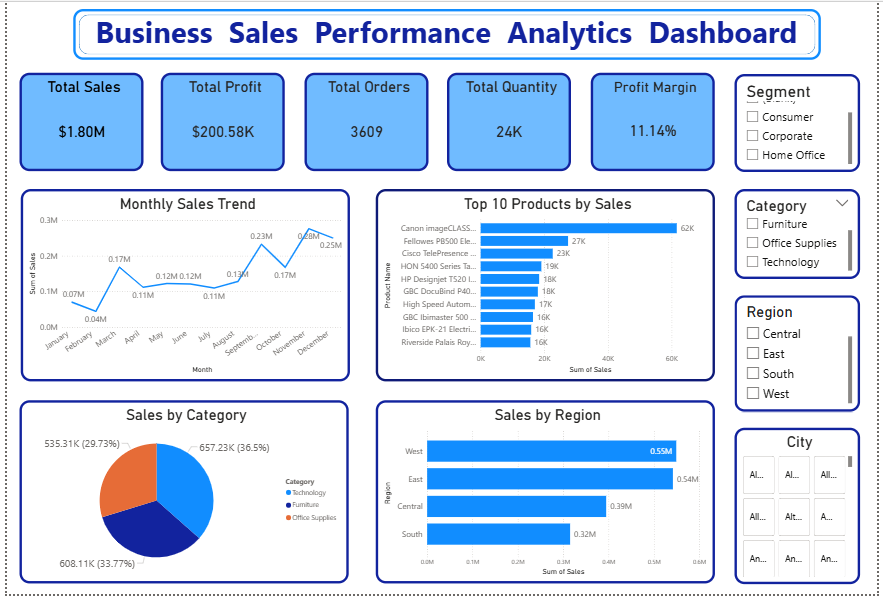

Layout of this report page (visuals, bound fields, positions):
{"tool":"powerbi","page":{"name":"Page 1","canvas":[1740,1240],"ordinal":0},"visuals":[{"type":"card","title":"Total Sales","fields":{"Values":["Sample - Superstore.Total Sales"]},"box":[25,198.3,248.3,196.7],"z":0},{"type":"card","title":"Total Profit","fields":{"Values":["Sample - Superstore.Total Profit"]},"box":[308.3,198.3,248.3,196.7],"z":1000},{"type":"card","title":"Total Orders","fields":{"Values":["Sample - Superstore.Total Orders"]},"box":[595,198.3,248.3,196.7],"z":2000},{"type":"card","title":"Total Quantity","fields":{"Values":["Sample - Superstore.Total Quantity"]},"box":[880,198.3,248.3,196.7],"z":3000},{"type":"card","title":"Profit Margin","fields":{"Values":["Sample - Superstore.Profit Margin"]},"box":[1166.7,198.3,248.3,196.7],"z":4000},{"type":"lineChart","title":"Monthly  Sales  Trend","fields":{"Category":["Sample - Superstore.Order Date.Variation.Date Hierarchy.Month"],"Y":["Sum(Sample - Superstore.Sales)"]},"box":[26.7,430,658.3,385],"z":5000},{"type":"clusteredBarChart","title":"Top  10  Products  by  Sales","fields":{"Category":["Sample - Superstore.Product Name"],"Y":["Sum(Sample - Superstore.Sales)"]},"box":[736.7,430,678.3,385],"z":6000},{"type":"textbox","box":[13.3,70,1733.3,101.7],"z":7000},{"type":"pieChart","title":"Sales by Category","fields":{"Category":["Sample - Superstore.Category"],"Y":["Sum(Sample - Superstore.Sales)"]},"box":[25,853.3,658.3,366.7],"z":8000},{"type":"clusteredBarChart","title":"Sales by Region","fields":{"Category":["Sample - Superstore.Region"],"Y":["Sum(Sample - Superstore.Sales)"]},"box":[736.7,853.3,678.3,366.7],"z":8001},{"type":"slicer","fields":{"Values":["Sample - Superstore.Region"]},"box":[1455,642.5,251.2,232.5],"z":8002},{"type":"advancedSlicerVisual","fields":{"Values":["Sample - Superstore.City"]},"box":[1455,907.5,251.2,312.5],"z":8004},{"type":"slicer","fields":{"Values":["Sample - Superstore.Segment"]},"box":[1455,198.8,251.2,196.2],"z":8005},{"type":"slicer","fields":{"Values":["Sample - Superstore.Category"]},"box":[1455,430,251.2,180],"z":8006},{"type":"shape","box":[133.3,70,1495,101.7],"z":8007}]}

Visuals, with their boxes in screenshot pixels (x1, y1, x2, y2):
"Total Sales" card: Rect(22, 71, 144, 168)
"Total Profit" card: Rect(162, 71, 285, 168)
"Total Orders" card: Rect(304, 71, 427, 168)
"Total Quantity" card: Rect(445, 71, 568, 168)
"Profit Margin" card: Rect(587, 71, 709, 168)
"Monthly  Sales  Trend" lineChart: Rect(22, 185, 348, 376)
"Top  10  Products  by  Sales" clusteredBarChart: Rect(374, 185, 709, 376)
textbox: Rect(16, 7, 874, 57)
"Sales by Category" pieChart: Rect(22, 395, 347, 576)
"Sales by Region" clusteredBarChart: Rect(374, 395, 709, 576)
slicer - Sample - Superstore.Region: Rect(729, 290, 854, 405)
advancedSlicerVisual - Sample - Superstore.City: Rect(729, 421, 854, 576)
slicer - Sample - Superstore.Segment: Rect(729, 71, 854, 168)
slicer - Sample - Superstore.Category: Rect(729, 185, 854, 274)
shape: Rect(75, 7, 815, 57)
